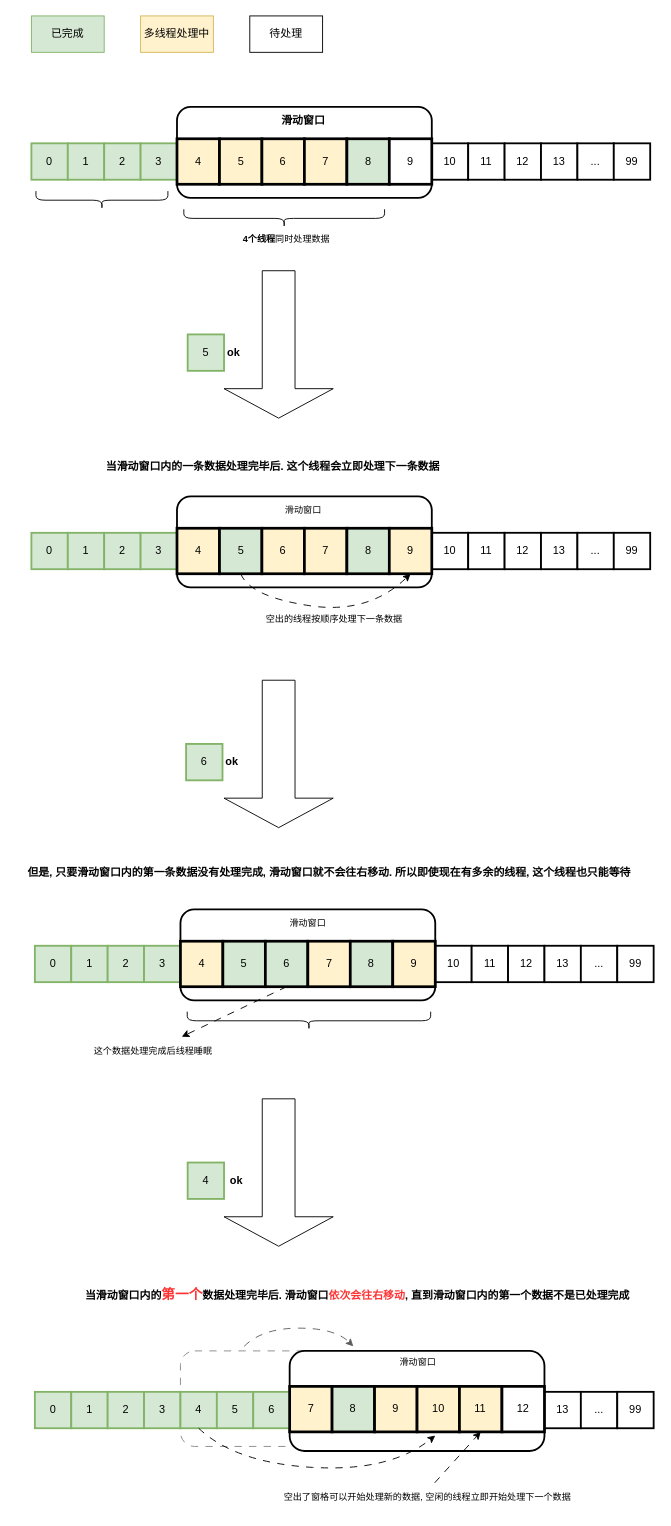
Some shapes in this 671 by 1526 pixel diagram are drawn without their labels. The shapes that lost their labels are listed below. From the top down, each one's centre as x and y in pixels, then its label:
(101,199): 滑动窗口前的数据都已处理完毕
(308,1020): 只有 3个线程 同时处理数据
